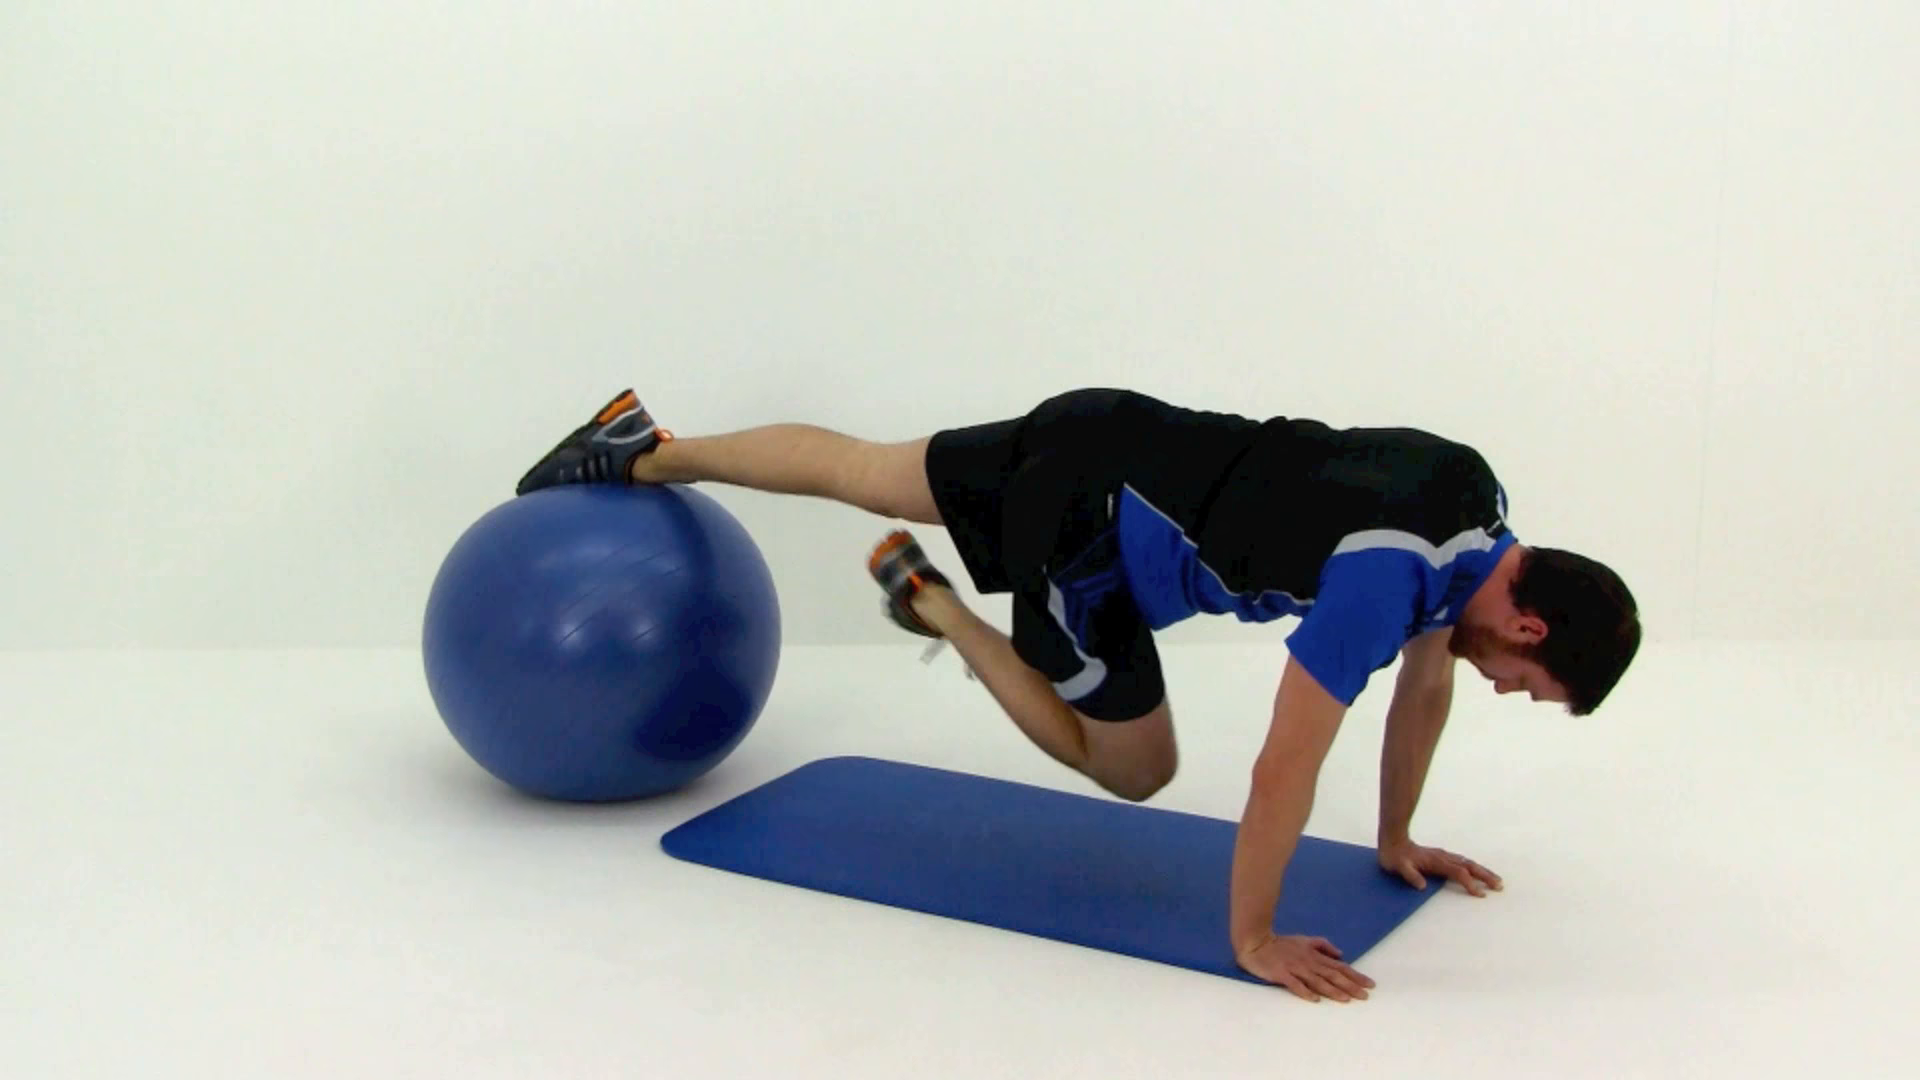yogaball: (411, 469, 787, 816)
